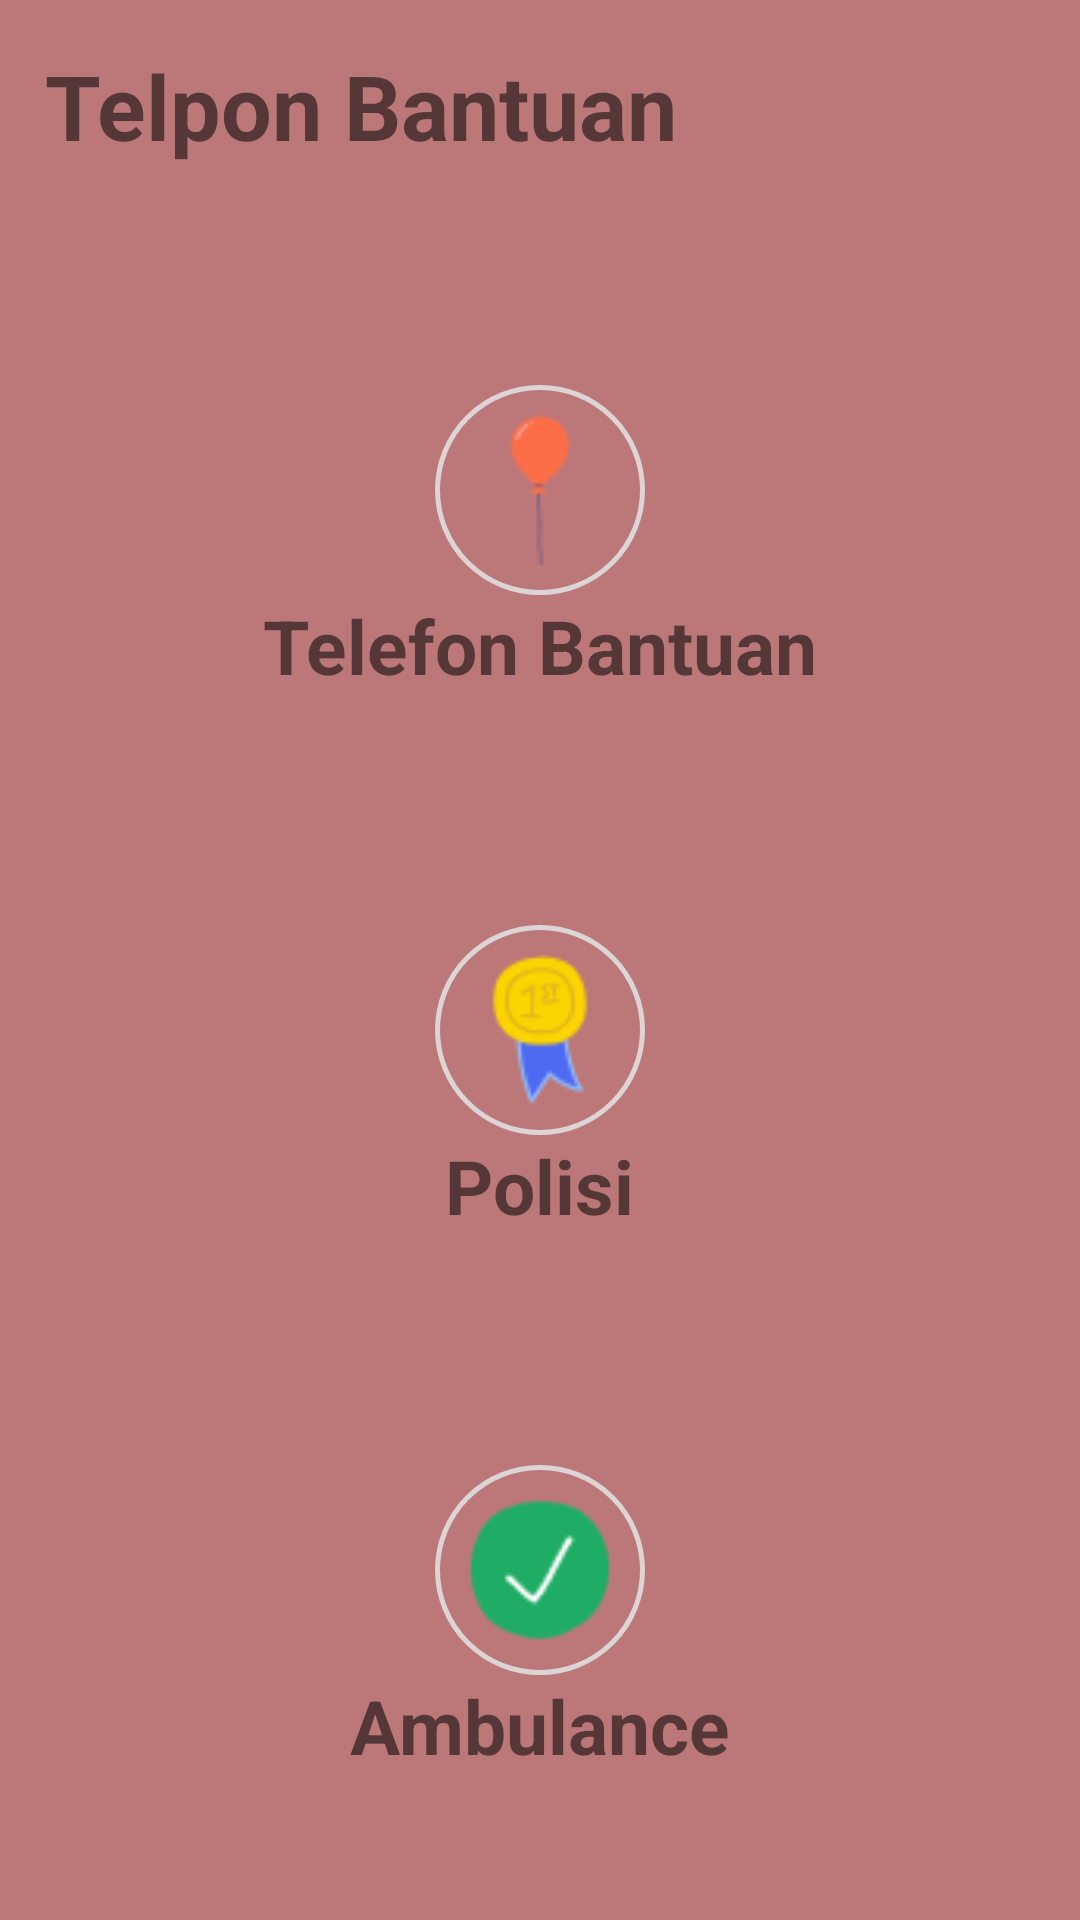

Where to tap for icons on this 1080x1920 app screen, as point (x, y):
balon: point (540, 490)
medal: point (540, 1030)
